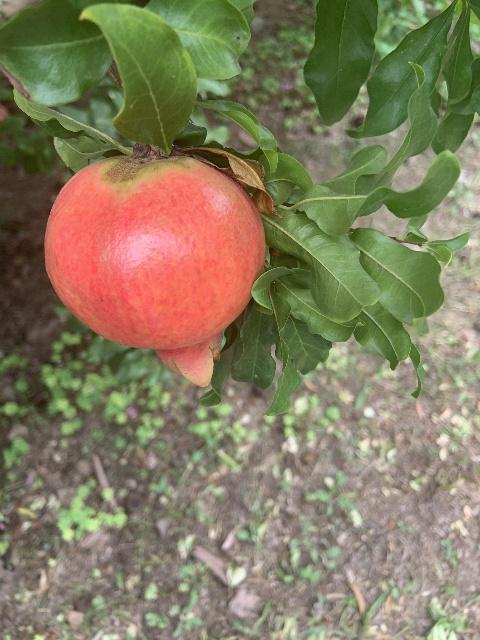ripe: (43, 156, 264, 387)
